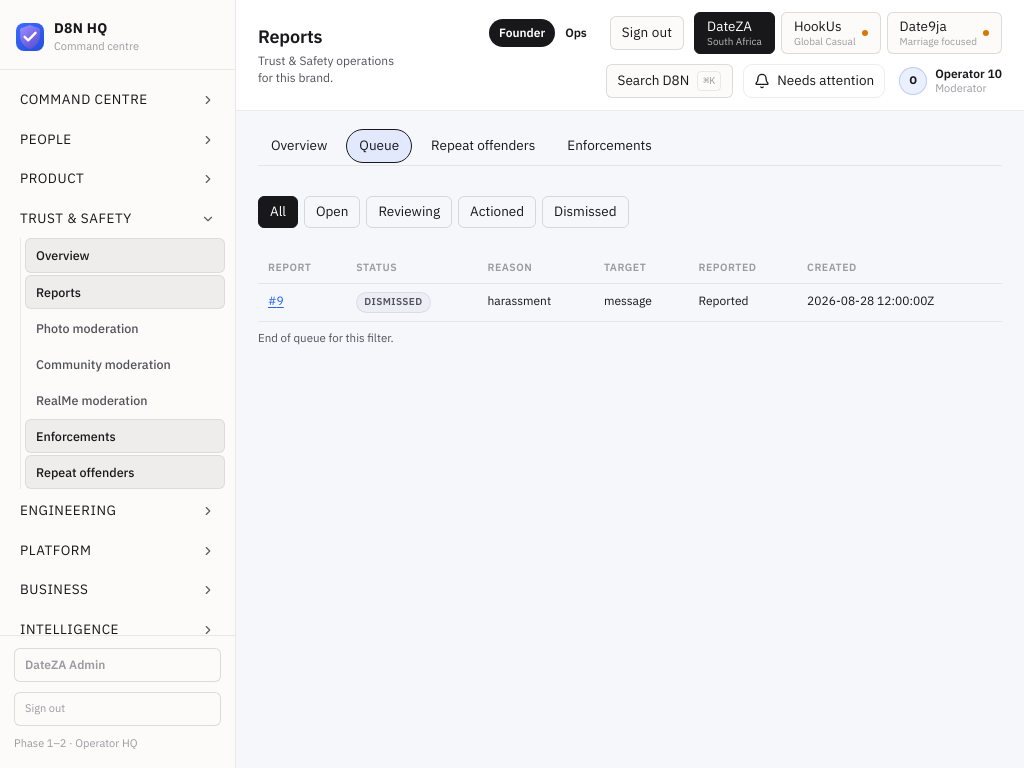
Test case: D8N HQ Phase 2 Trust & Safety › paginates the report queue and filters by status
Check: the link "#9" is shown, box [268,293,284,308]
Click the button "Open". click: [332, 212]
box: [304,196,360,228]
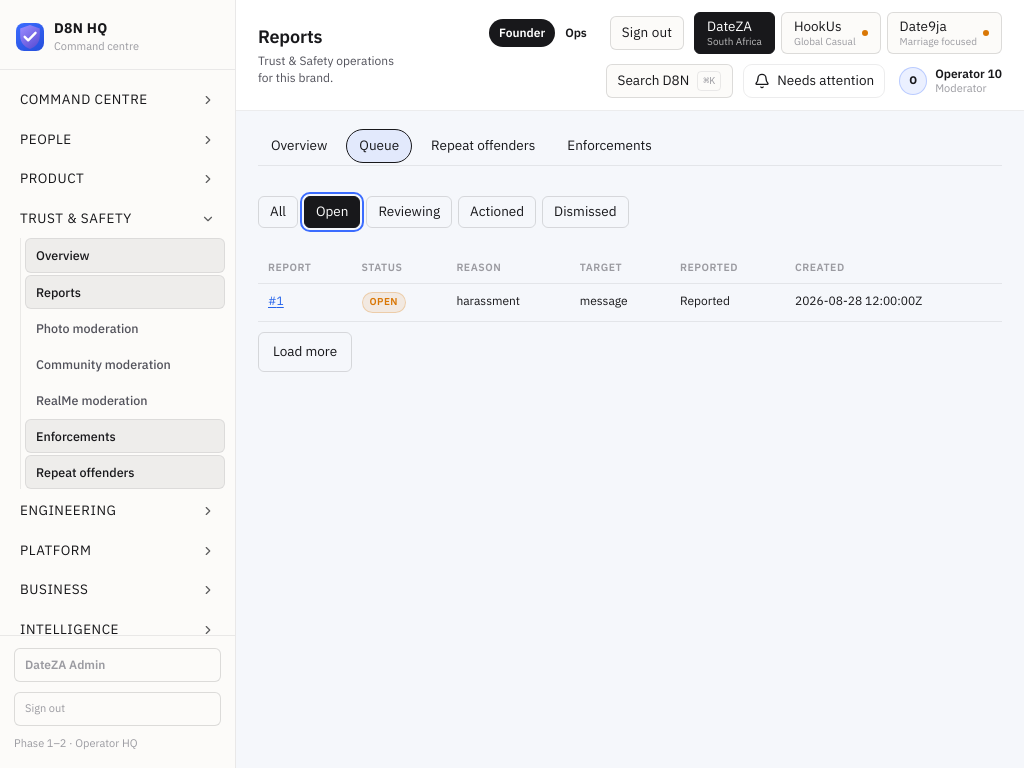
Check: the link "#1" is shown, box [268,293,284,308]
Click the button "Load more". click: [305, 352]
box: [258,332,352,372]
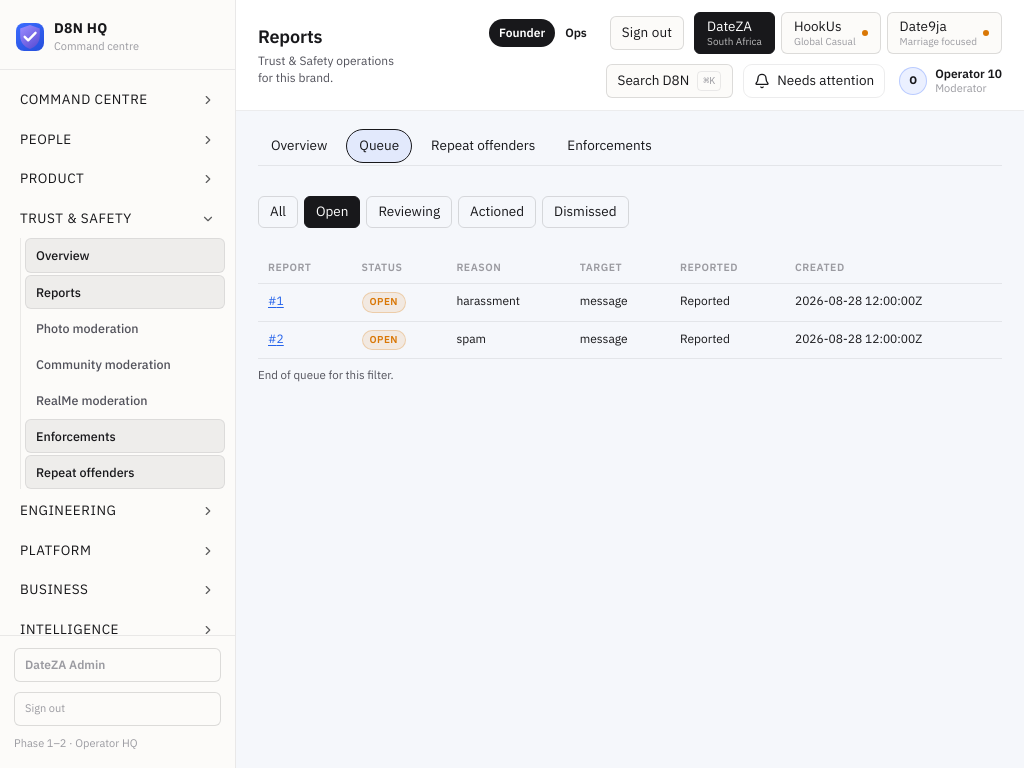
Check: the link "#2" is shown, box [268,331,284,346]
